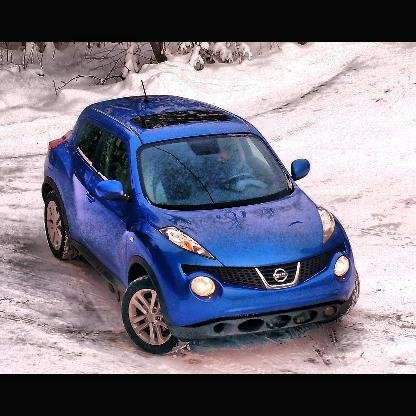Nissan Juke Hatchback 2012: (41, 79, 361, 356)
